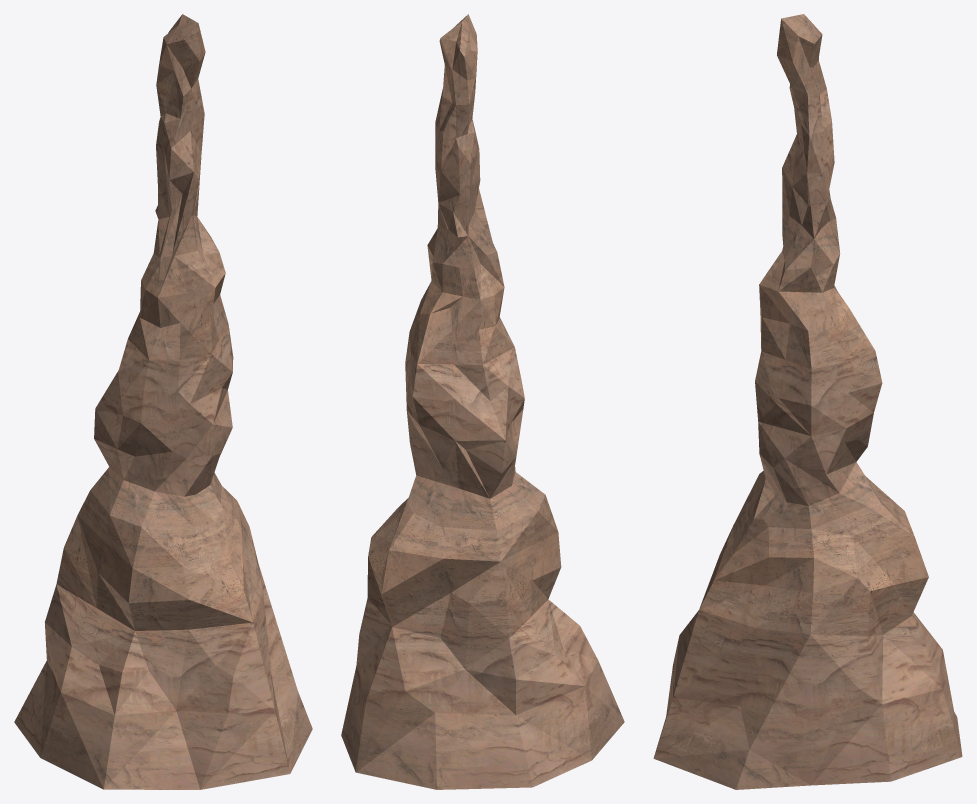
The model's file is rock_tatt_spire_skinny_a2_l0.fbx.
The picture shows the model from 3 angles, left to right: view 1: azimuth 30°, elevation 25°; view 2: azimuth 150°, elevation 25°; view 3: azimuth 270°, elevation 25°; orthographic projection. The views are drawn at different scales.
Visible parts, largest first — view 1: mesh_node; view 2: mesh_node; view 3: mesh_node.
Boxes of the visible parts, box(x1,y1,x2,y2) form: mesh_node: box(14, 14, 312, 789); mesh_node: box(341, 14, 624, 789); mesh_node: box(653, 14, 962, 789).
Size of the model in its own units: 26.19 by 76.39 by 29.39.
